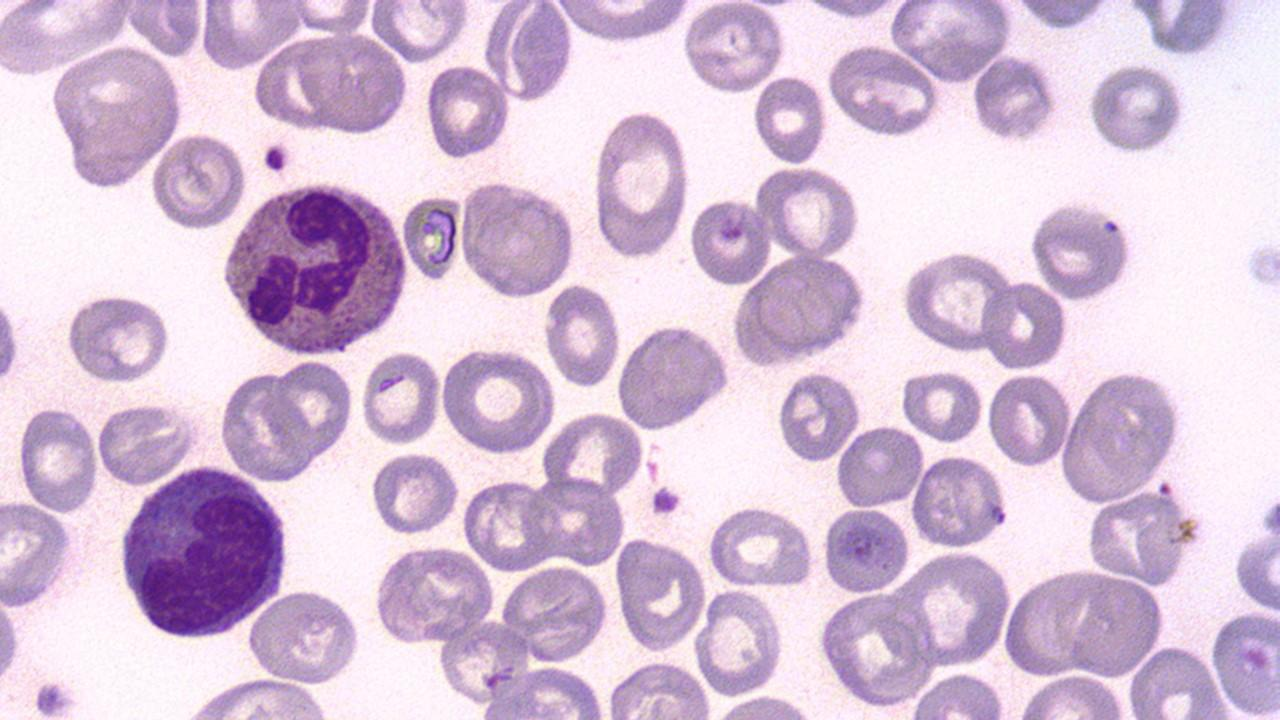Platelets: (1086, 65, 1194, 157), (969, 56, 1058, 145), (1242, 236, 1280, 303), (32, 677, 78, 718), (649, 484, 684, 518), (260, 141, 291, 174), (1260, 493, 1280, 543)
RBC: (674, 161, 943, 257), (46, 43, 185, 190), (1065, 365, 1187, 494), (590, 108, 694, 259), (816, 586, 938, 710), (740, 252, 874, 364), (457, 176, 577, 299), (215, 366, 335, 484), (900, 545, 1014, 668), (1003, 565, 1123, 680), (438, 344, 557, 456), (372, 543, 495, 646), (897, 248, 1015, 354), (295, 32, 410, 136), (1025, 198, 1141, 301), (246, 586, 365, 686), (498, 563, 610, 665), (1083, 487, 1197, 587), (825, 42, 942, 138), (1063, 574, 1167, 680), (613, 536, 708, 652), (691, 586, 787, 696), (754, 165, 862, 260), (62, 292, 173, 384), (888, 2, 1012, 84), (0, 500, 90, 612), (1084, 62, 1188, 157), (681, 2, 786, 96), (538, 410, 644, 503), (910, 452, 1010, 549), (94, 399, 205, 486), (0, 0, 132, 73), (704, 503, 816, 589), (152, 132, 248, 232), (486, 2, 575, 105), (16, 405, 100, 514), (531, 474, 627, 568), (542, 280, 624, 389), (271, 356, 355, 462), (986, 369, 1074, 470), (434, 616, 532, 706), (462, 476, 553, 572), (820, 503, 912, 596), (359, 347, 443, 448), (368, 448, 462, 538), (424, 64, 511, 161), (983, 277, 1071, 372), (252, 38, 339, 133), (971, 51, 1058, 146), (775, 368, 861, 464), (688, 192, 774, 288), (834, 422, 926, 510), (1208, 605, 1280, 716), (752, 72, 830, 169), (1126, 644, 1226, 718), (200, 1, 301, 71), (604, 657, 715, 717), (177, 676, 334, 718), (900, 366, 984, 444), (548, 1, 693, 46), (370, 1, 468, 64), (400, 192, 463, 285), (1138, 2, 1238, 58), (1014, 674, 1130, 718), (906, 670, 1012, 717), (124, 0, 206, 59), (1234, 526, 1280, 612), (1005, 0, 1117, 32), (1, 270, 24, 414), (288, 0, 378, 35), (0, 584, 22, 698), (799, 0, 908, 23)
WBC: (230, 0, 1234, 702), (216, 175, 413, 360), (114, 462, 294, 644), (733, 252, 879, 365), (215, 358, 344, 484), (372, 542, 495, 646), (618, 319, 734, 429), (0, 497, 93, 612)
